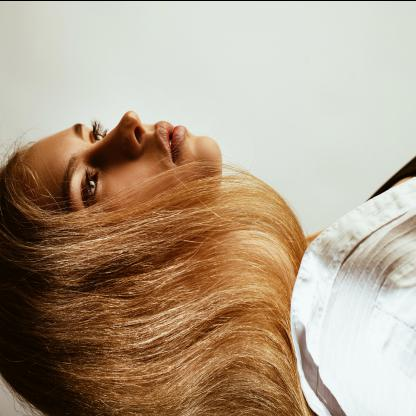Eye: (80, 168, 103, 207), (89, 128, 106, 142)
Mouth: (152, 120, 188, 166)
Nose: (95, 108, 144, 162)
